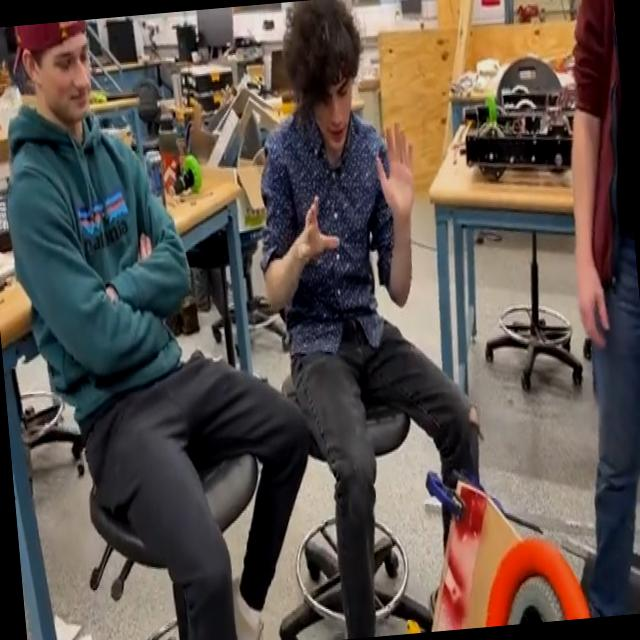note: (476, 528, 592, 626)
